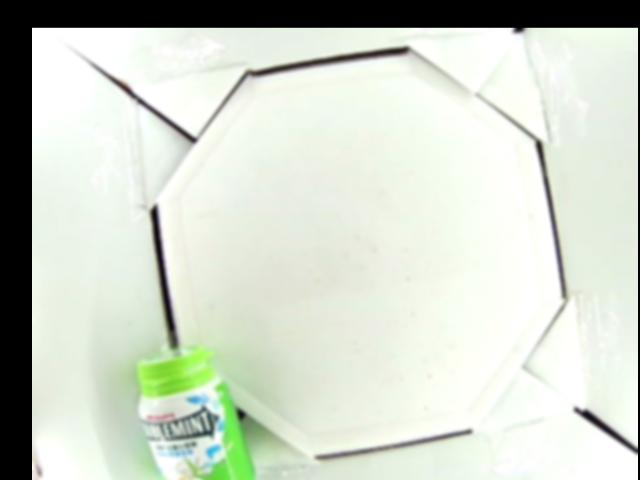Bottle: (134, 342, 262, 480)
